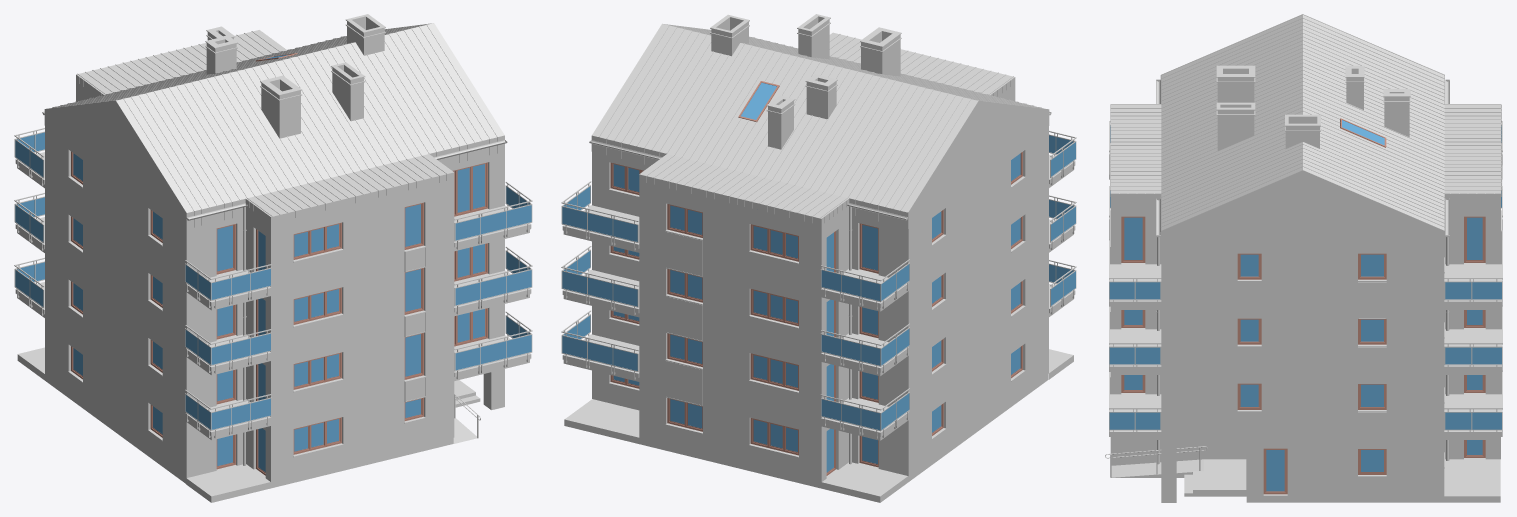
3 renders of one model, left to right at view 1: azimuth 30°, elevation 25°; view 2: azimuth 150°, elevation 25°; view 3: azimuth 270°, elevation 25°, orthographic.
Visible parts, largest first — view 1: building_walls, roof, foundation_wall, window_005, barrels, chimney, balcony, metal_cover, terrace, boards, eneter_floor, gutters_003; view 2: building_walls, roof, foundation_wall, window_005, barrels, chimney, balcony, terrace, boards_001, metal_cover, window_roof, gutters_003; view 3: building_walls, roof, foundation_wall, window_005, barrels, balcony, chimney, boards_001, eneter_floor, terrace, metal_cover, roof_plate (+3 smaller).
Part boxes in pixels (x1,y1,x2,y2): building_walls: (45, 81, 504, 417); roof: (44, 23, 504, 229); foundation_wall: (45, 310, 454, 488); window_005: (68, 151, 487, 475); barrels: (14, 128, 532, 438); chimney: (205, 14, 385, 138); balcony: (17, 152, 529, 440); metal_cover: (15, 152, 531, 436); terrace: (17, 347, 270, 502); boards: (404, 246, 426, 402); eneter_floor: (453, 380, 480, 443); gutters_003: (42, 111, 507, 220); building_walls: (592, 84, 1048, 417); roof: (591, 23, 1049, 228); foundation_wall: (592, 309, 1048, 488); window_005: (609, 152, 1025, 475); barrels: (561, 130, 1076, 438); chimney: (710, 14, 901, 149); balcony: (563, 155, 1073, 440); terrace: (564, 349, 1073, 502); boards_001: (665, 232, 702, 406); metal_cover: (562, 155, 1075, 436); window_roof: (738, 81, 779, 121); gutters_003: (589, 111, 1051, 220); building_walls: (1110, 179, 1500, 502); roof: (1110, 14, 1501, 246); foundation_wall: (1110, 431, 1500, 502); window_005: (1110, 165, 1502, 496); barrels: (1109, 121, 1502, 438); balcony: (1110, 263, 1500, 439); chimney: (1216, 65, 1410, 151); boards_001: (1358, 213, 1501, 448); eneter_floor: (1111, 459, 1246, 496); terrace: (1444, 458, 1500, 502); metal_cover: (1109, 145, 1501, 436); roof_plate: (1110, 193, 1500, 200).
Size of the model in its own units: 15.55 by 16.11 by 16.63.
